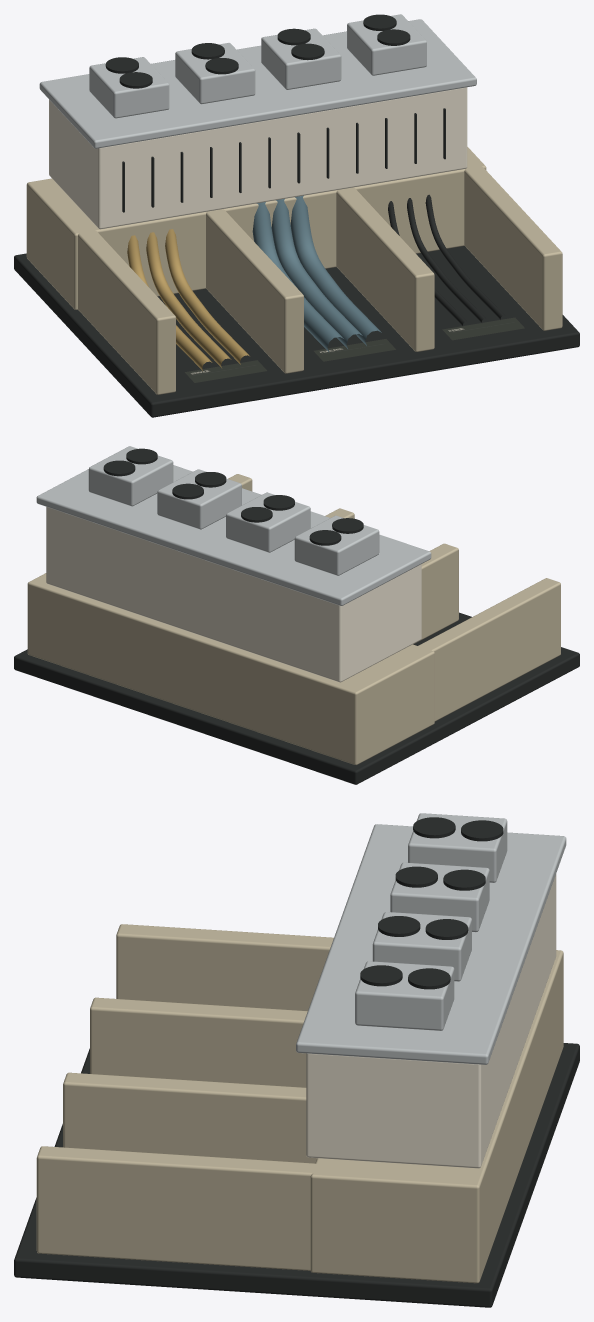
File: infrastructure-cross-section.glb
3 renders of one model, top to bottom at view 1: azimuth 30°, elevation 25°; view 2: azimuth 150°, elevation 25°; view 3: azimuth 270°, elevation 25°, orthographic. The views are drawn at different scales.
Visible parts, largest first — view 1: Building, SitePlinth, BackSoil, Roof, SoilDivider2.25, SoilDivider0.76, SoilDivider-2.25, SoilDivider-0.76, RoofCooling0, RoofCooling2, RoofCooling1, RoofCooling3 (+11 smaller); view 2: BackSoil, Building, Roof, SitePlinth, SoilDivider-2.25, SoilDivider-0.76, RoofCooling0, RoofCooling3, RoofCooling2, RoofCooling1; view 3: SoilDivider2.25, BackSoil, Roof, Building, SoilDivider0.76, SitePlinth, SoilDivider-0.76, SoilDivider-2.25, RoofCooling3, RoofCooling0, RoofCooling1, RoofCooling2 (+8 smaller).
Part boxes in pixels (left/top/right/bottom): Building: left=49, top=87, right=467, bottom=229; SitePlinth: left=14, top=246, right=579, bottom=417; BackSoil: left=26, top=147, right=486, bottom=309; Roof: left=39, top=19, right=476, bottom=148; SoilDivider2.25: left=464, top=164, right=562, bottom=330; SoilDivider0.76: left=336, top=187, right=434, bottom=351; SoilDivider-2.25: left=78, top=230, right=175, bottom=394; SoilDivider-0.76: left=206, top=209, right=303, bottom=373; RoofCooling0: left=89, top=57, right=169, bottom=118; RoofCooling2: left=261, top=28, right=341, bottom=89; RoofCooling1: left=175, top=43, right=255, bottom=104; RoofCooling3: left=347, top=14, right=426, bottom=75; BackSoil: left=27, top=573, right=434, bottom=764; Building: left=46, top=507, right=421, bottom=682; Roof: left=36, top=465, right=431, bottom=605; SitePlinth: left=14, top=612, right=579, bottom=784; SoilDivider-2.25: left=417, top=578, right=560, bottom=721; SoilDivider-0.76: left=413, top=543, right=458, bottom=644; RoofCooling0: left=294, top=515, right=379, bottom=575; RoofCooling3: left=88, top=446, right=173, bottom=506; RoofCooling2: left=157, top=469, right=241, bottom=529; RoofCooling1: left=226, top=492, right=310, bottom=552; SoilDivider2.25: left=36, top=1146, right=316, bottom=1270; BackSoil: left=310, top=950, right=563, bottom=1283; Roof: left=296, top=824, right=566, bottom=1064; Building: left=306, top=874, right=556, bottom=1168; SoilDivider0.76: left=63, top=1072, right=316, bottom=1163; SitePlinth: left=14, top=1043, right=579, bottom=1307; SoilDivider-0.76: left=90, top=997, right=307, bottom=1087; SoilDivider-2.25: left=116, top=924, right=333, bottom=1010; RoofCooling3: left=355, top=961, right=454, bottom=1030; RoofCooling0: left=408, top=813, right=507, bottom=882; RoofCooling1: left=390, top=862, right=489, bottom=932; RoofCooling2: left=372, top=912, right=471, bottom=981.
Size of the model in its own units: 5.55 by 2.59 by 4.79.
Materials: 9 (3 with a texture image).
